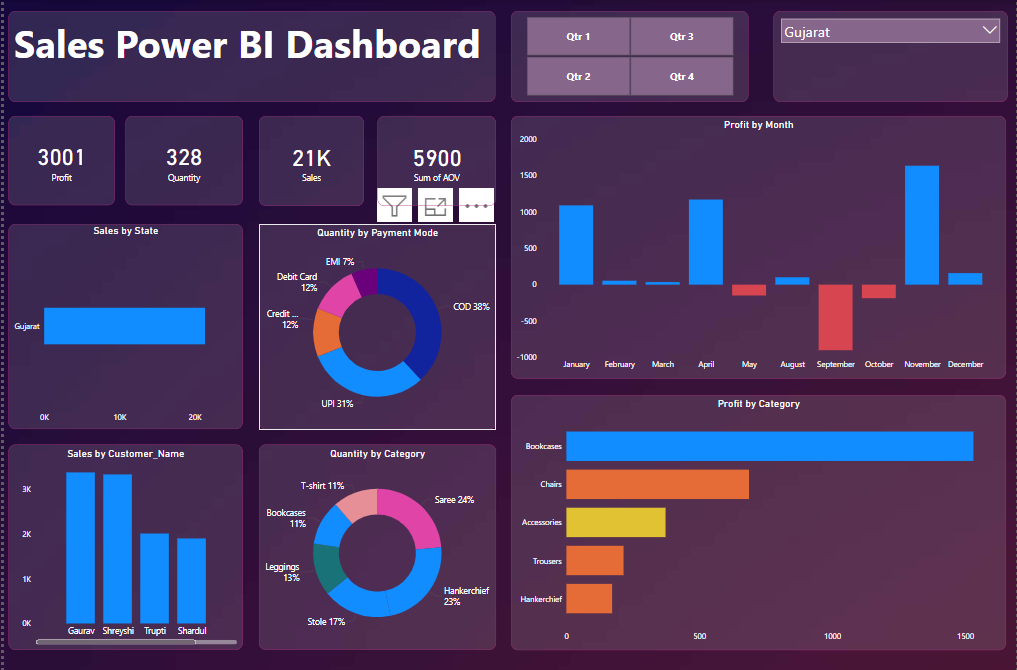

What the dashboard file says about the page in this screenshot:
{"tool":"powerbi","page":{"name":"Page 1","canvas":[1900,1300],"ordinal":0},"visuals":[{"type":"textbox","box":[8.7,23.1,913.4,170.5],"z":0},{"type":"columnChart","title":"Profit by Month","fields":{"Category":["Orders_Cleaned.Order_Date.Variation.Date Hierarchy.Month"],"Y":["Details_Cleaned.Profit"]},"box":[951.1,219.5,928.6,492.4],"z":1000},{"type":"barChart","title":"Profit by Category","fields":{"Category":["Details_Cleaned.Sub_Category"],"Y":["Details_Cleaned.Profit"]},"box":[951.1,742.9,928.6,478.4],"z":2000},{"type":"donutChart","title":"Quantity by Category","fields":{"Category":["Details_Cleaned.Sub_Category"],"Y":["Details_Cleaned.Quantity"]},"box":[478.4,835.7,444.6,385.5],"z":3000},{"type":"donutChart","title":"Quantity by Payment Mode","fields":{"Y":["Details_Cleaned.Quantity"],"Category":["Details_Cleaned.Payment_Mode"]},"box":[478.4,422.1,444.6,385.5],"z":4000},{"type":"card","fields":{"Values":["Details_Cleaned.Profit"]},"box":[8.7,219.7,199.4,167.6],"z":5000},{"type":"card","fields":{"Values":["Details_Cleaned.Quantity"]},"box":[228.3,219.7,219.7,167.6],"z":6000},{"type":"card","fields":{"Values":["Details_Cleaned.Sales_Amount"]},"box":[478.4,219.5,197,168.8],"z":7000},{"type":"card","fields":{"Values":["Details_Cleaned.AOV"]},"box":[700.6,219.5,222.3,168.8],"z":8000},{"type":"barChart","title":"Sales by State","fields":{"Category":["Orders_Cleaned.State"],"Y":["Details_Cleaned.Sales_Amount"]},"box":[8.7,422,439.4,384.4],"z":9000},{"type":"clusteredColumnChart","title":"Sales by Customer_Name","fields":{"Category":["Orders_Cleaned.Customer_Name"],"Y":["Details_Cleaned.Sales_Amount"]},"box":[9,836,439,385],"z":10000},{"type":"slicer","fields":{"Values":["Orders_Cleaned.Order_Date.Variation.Date Hierarchy.Quarter"]},"box":[951,23.1,445.1,170.5],"z":11000},{"type":"slicer","fields":{"Values":["Orders_Cleaned.State"]},"box":[1442.3,23.1,439.4,170.5],"z":12000}]}

Visuals, with their boxes on the page's 1900x1300 design canvas (x1, y1, x2, y2). These are canvas units, not pixel positions in the 1017x670 screenshot, which may show the page scaled, cropped or inside an application window:
textbox: [9,23,922,194]
"Profit by Month" columnChart: [951,220,1880,712]
"Profit by Category" barChart: [951,743,1880,1221]
"Quantity by Category" donutChart: [478,836,923,1221]
"Quantity by Payment Mode" donutChart: [478,422,923,808]
card - Details_Cleaned.Profit: [9,220,208,387]
card - Details_Cleaned.Quantity: [228,220,448,387]
card - Details_Cleaned.Sales_Amount: [478,220,675,388]
card - Details_Cleaned.AOV: [701,220,923,388]
"Sales by State" barChart: [9,422,448,806]
"Sales by Customer_Name" clusteredColumnChart: [9,836,448,1221]
slicer - Orders_Cleaned.Order_Date.Variation.Date Hierarchy.Quarter: [951,23,1396,194]
slicer - Orders_Cleaned.State: [1442,23,1882,194]
